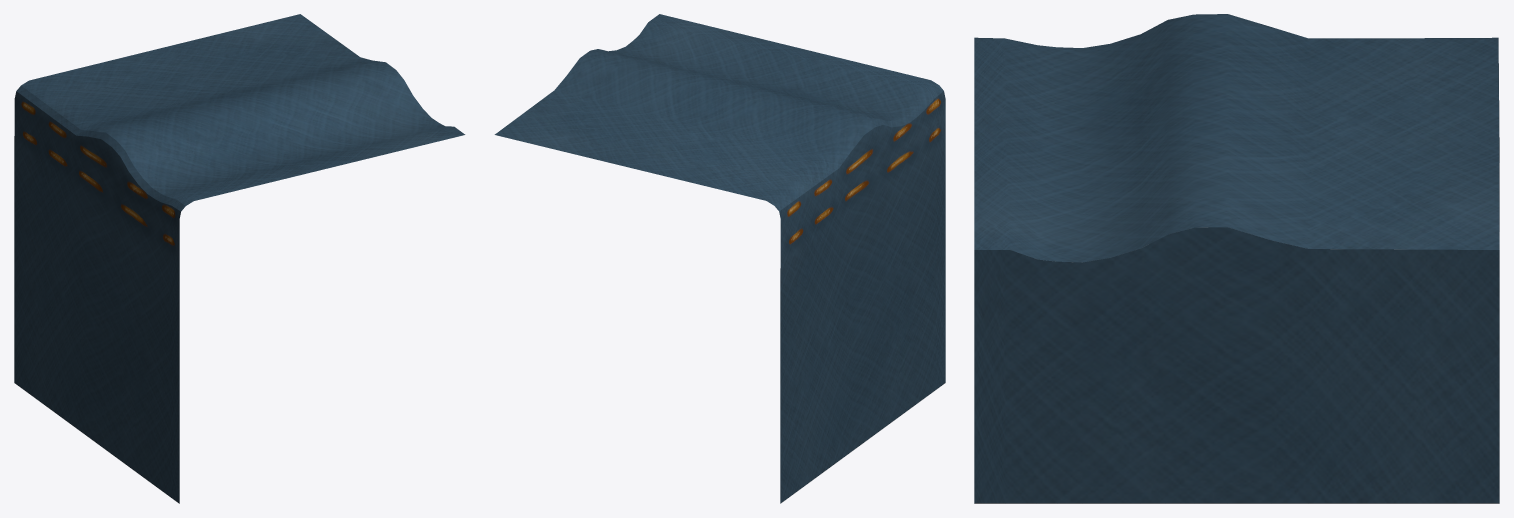
File: tl1_1_mid2.FBX
3 renders of one model, left to right at view 1: azimuth 30°, elevation 25°; view 2: azimuth 150°, elevation 25°; view 3: azimuth 270°, elevation 25°, orthographic. The views are drawn at different scales.
Parts seen in each view (by area): view 1: tl_mid2; view 2: tl_mid2; view 3: tl_mid2.
Boxes of the visible parts, x1,y1,x2,y2 form: tl_mid2: (14, 14, 465, 503); tl_mid2: (494, 14, 945, 503); tl_mid2: (974, 14, 1499, 503).
Bounding box in the file's own units: 100 × 105 × 100.
